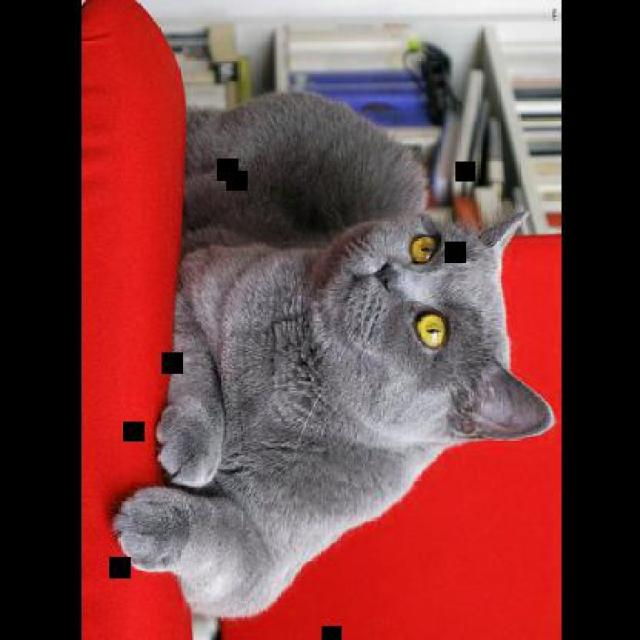unauthorized: (110, 89, 556, 631), (180, 89, 429, 254)
